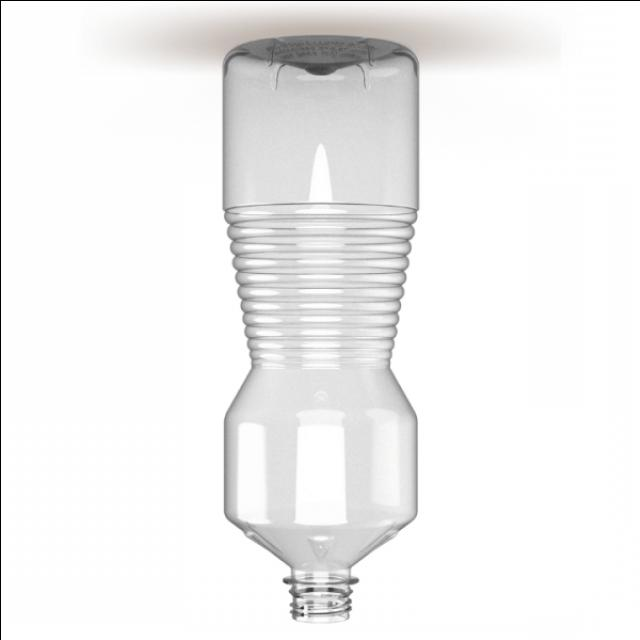bottom: (222, 36, 418, 213)
